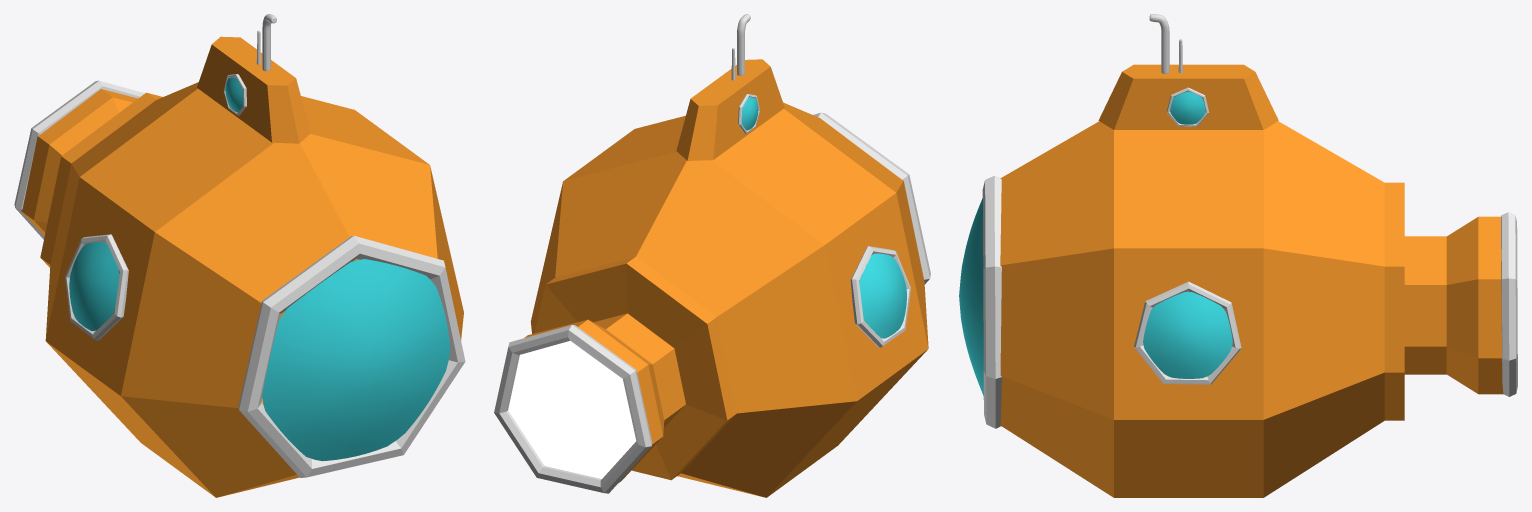
File: submarine.glb
The picture shows the model from 3 angles, left to right: view 1: azimuth 30°, elevation 25°; view 2: azimuth 150°, elevation 25°; view 3: azimuth 270°, elevation 25°; orthographic projection. The views are drawn at different scales.
Parts seen in each view (by area): view 1: Sphere, Sphere.001, Torus.002, Sphere.003, Sphere.007, Torus.003, Torus.007, periscope, Sphere.006; view 2: Sphere, Torus.003, Sphere.003, Sphere.007, Torus.002, Torus.007, periscope; view 3: Sphere, Sphere.003, Sphere.002, Torus.002, Sphere.001, Torus.003, Torus.001, Sphere.004.
Part boxes in pixels (x1,y1,x2,y2): Sphere: [20, 82, 463, 497]; Sphere.001: [262, 259, 450, 461]; Torus.002: [238, 236, 465, 477]; Sphere.003: [197, 36, 310, 143]; Sphere.007: [69, 242, 119, 330]; Torus.003: [14, 80, 144, 239]; Torus.007: [65, 234, 128, 340]; periscope: [262, 14, 276, 71]; Sphere.006: [225, 77, 243, 112]; Sphere: [508, 102, 928, 497]; Torus.003: [494, 325, 652, 493]; Sphere.003: [676, 59, 784, 160]; Sphere.007: [859, 253, 906, 338]; Torus.002: [813, 112, 930, 284]; Torus.007: [850, 246, 910, 347]; periscope: [737, 14, 750, 75]; Sphere: [1000, 121, 1503, 497]; Sphere.003: [1098, 64, 1278, 129]; Sphere.002: [1143, 292, 1232, 378]; Torus.002: [982, 176, 1001, 428]; Sphere.001: [959, 197, 983, 396]; Torus.003: [1501, 212, 1517, 396]; Torus.001: [1134, 281, 1241, 384]; Sphere.004: [1170, 91, 1205, 124].
Size of the model in its own units: 1.87 by 2.32 by 2.63.
